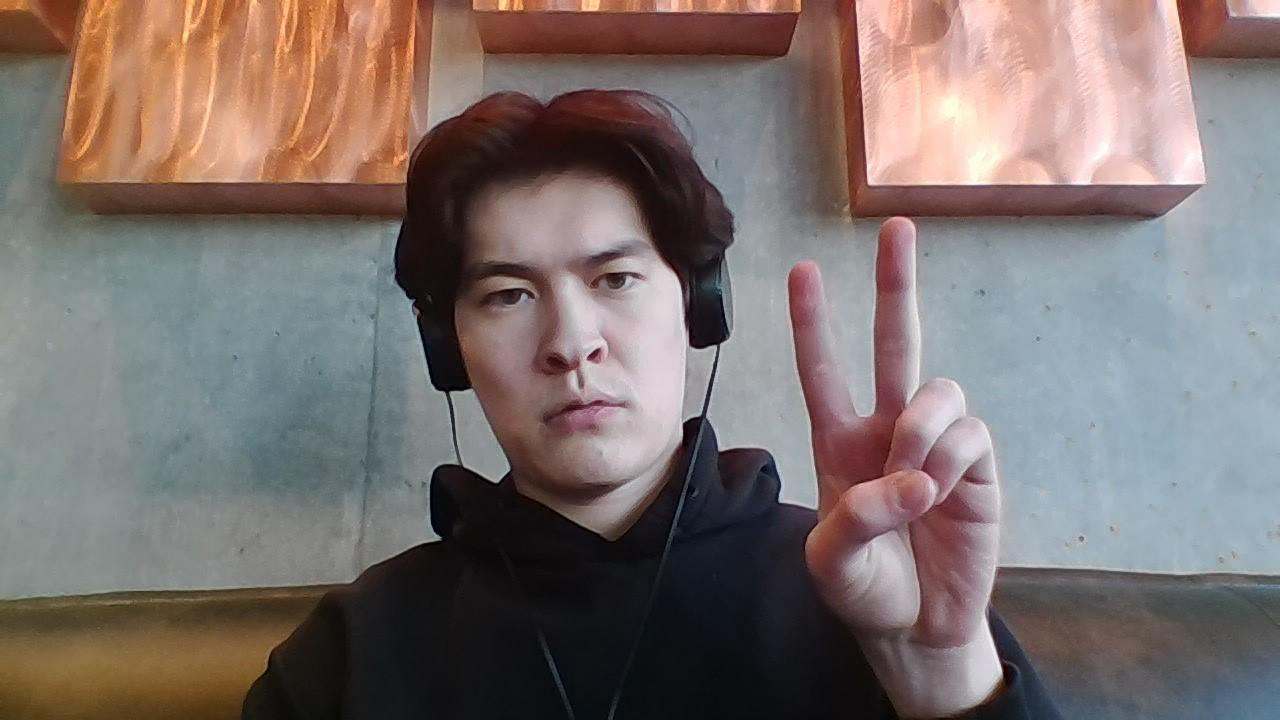peace: (785, 215, 1006, 643)
